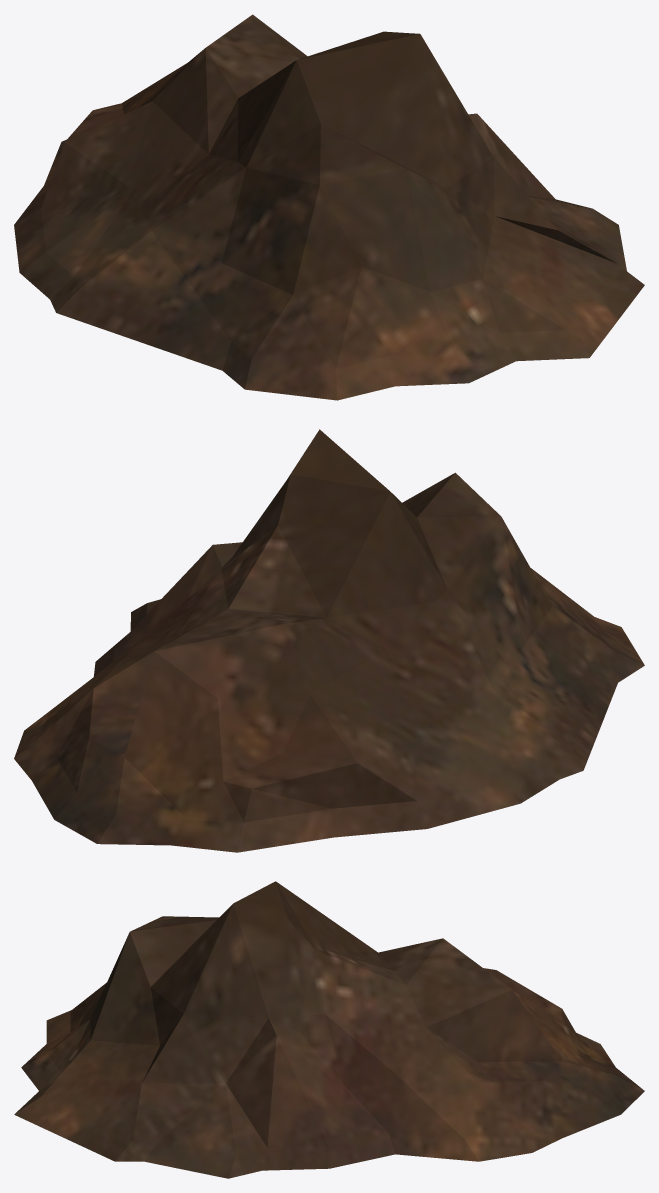
File: dirtpile.dae
3 renders of one model, top to bottom at view 1: azimuth 30°, elevation 25°; view 2: azimuth 150°, elevation 25°; view 3: azimuth 270°, elevation 25°, orthographic. The views are drawn at different scales.
Parts seen in each view (by area): view 1: Plane; view 2: Plane; view 3: Plane.
Boxes of the visible parts, x1,y1,x2,y2 form: Plane: (14, 14, 644, 400); Plane: (14, 429, 644, 852); Plane: (14, 881, 644, 1178).
Bounding box in the file's own units: 7.24 × 9.31 × 3.19.
Materials: 1 (1 with a texture image).
